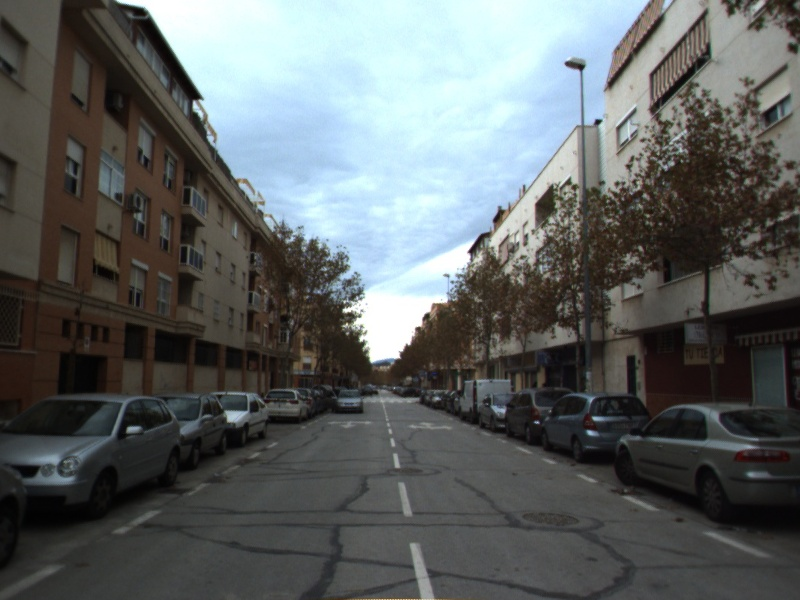STRAIGHT_LEFT_RIGHT: (406, 420, 455, 432)
